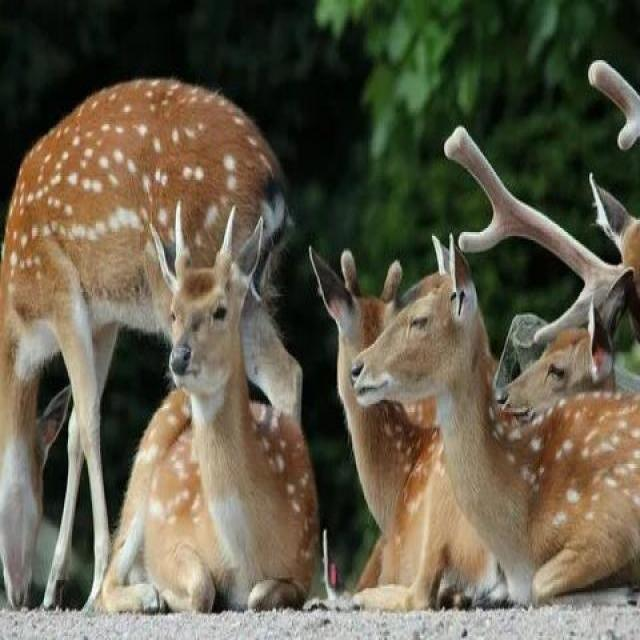deer: (0, 56, 340, 605), (276, 200, 586, 640), (344, 273, 640, 640), (117, 234, 329, 621), (505, 299, 640, 546)
